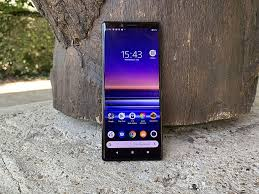sony: (95, 15, 167, 164)
